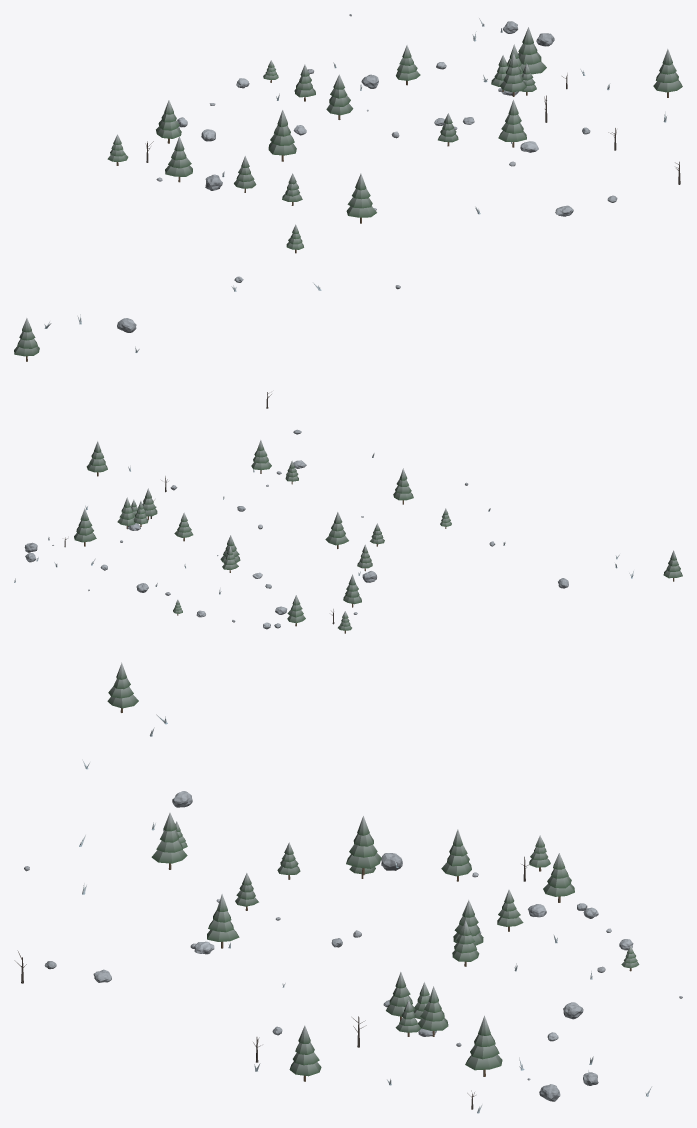
Rendered from frost_land_scatter_c18_11.glb.
3 views of the same model, one above another, from view 1: azimuth 30°, elevation 25°; view 2: azimuth 150°, elevation 25°; view 3: azimuth 270°, elevation 25° (orthographic). The views are drawn at different scales.
Parts seen in each view (by area): view 1: frost_land_scatter_c18_11; view 2: frost_land_scatter_c18_11; view 3: frost_land_scatter_c18_11.
Boxes of the visible parts, x1,y1,x2,y2 form: frost_land_scatter_c18_11: (14, 14, 682, 361); frost_land_scatter_c18_11: (14, 392, 682, 633); frost_land_scatter_c18_11: (14, 662, 682, 1113).
Size of the model in its own units: 237 by 36.64 by 161.
